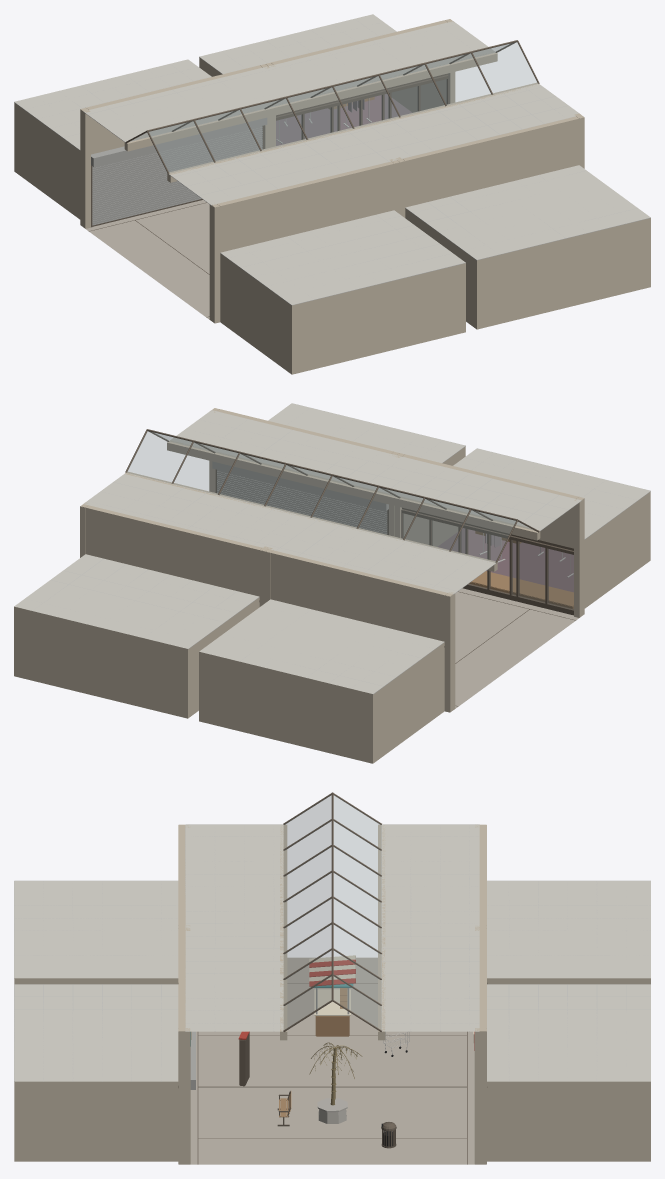
Rendered from concourse_b.glb.
The picture shows the model from 3 angles, top to bottom: view 1: azimuth 30°, elevation 25°; view 2: azimuth 150°, elevation 25°; view 3: azimuth 270°, elevation 25°; orthographic projection. The views are drawn at different scales.
Visible parts, largest first — view 1: concourse_b; view 2: concourse_b; view 3: concourse_b.
Part boxes in pixels (x1,y1,x2,y2): concourse_b: [14, 14, 650, 374]; concourse_b: [14, 403, 650, 763]; concourse_b: [14, 792, 650, 1164].
Size of what is drawn, in the model's own units: 20.07 by 7.45 by 26.01.
